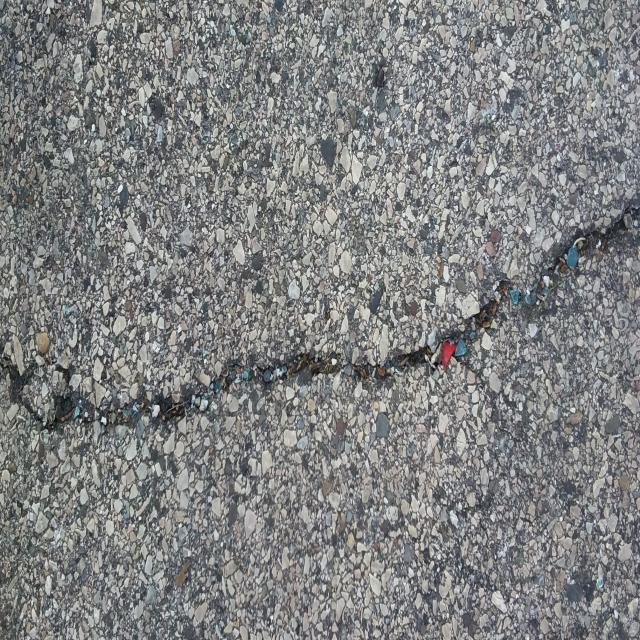Crack: (0, 203, 640, 435)
